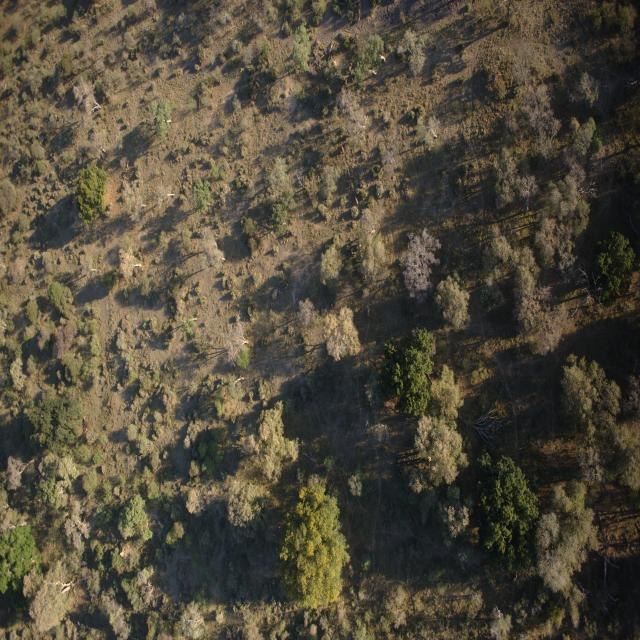elephant: (511, 569, 519, 585), (365, 306, 371, 319), (349, 179, 355, 191), (358, 239, 363, 252), (348, 62, 353, 74), (339, 143, 345, 153), (346, 168, 351, 179), (358, 3, 362, 15), (362, 273, 368, 280), (354, 197, 359, 205), (355, 31, 358, 42), (345, 78, 347, 88), (354, 47, 356, 55), (358, 15, 360, 22), (360, 252, 363, 256)
